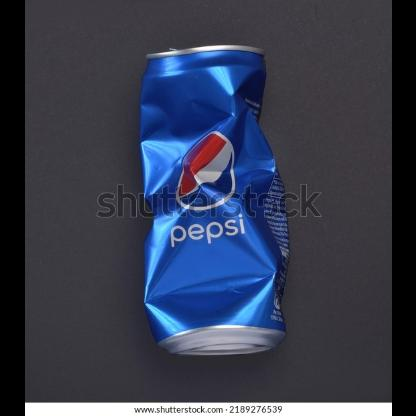Dent_Can: (138, 67, 280, 330)
Tin_Can: (122, 41, 296, 361)
